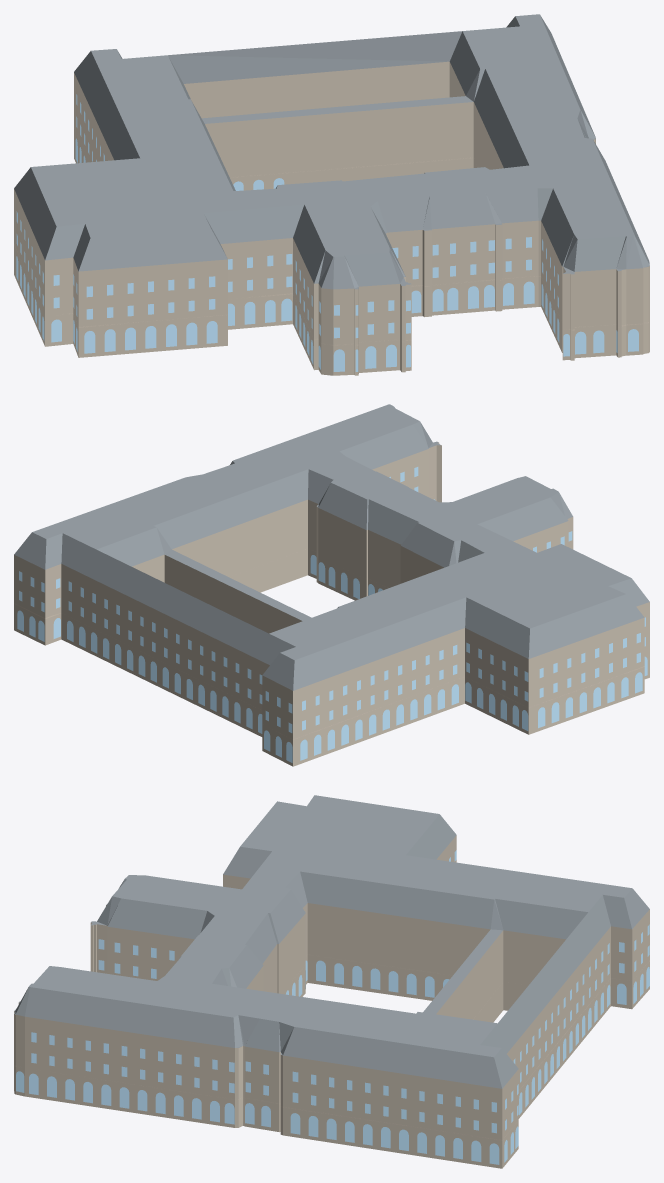
The picture shows the model from 3 angles, top to bottom: view 1: azimuth 30°, elevation 25°; view 2: azimuth 150°, elevation 25°; view 3: azimuth 270°, elevation 25°; orthographic projection. The views are drawn at different scales.
Visible parts, largest first — view 1: roof, stone, window, trim; view 2: roof, stone, window; view 3: roof, stone, window.
Part boxes in pixels (bbox=[...]): roof: bbox=[14, 14, 649, 289]; stone: bbox=[14, 61, 649, 375]; window: bbox=[16, 94, 638, 371]; trim: bbox=[14, 128, 648, 345]; roof: bbox=[14, 404, 649, 690]; stone: bbox=[14, 442, 649, 766]; window: bbox=[17, 467, 647, 762]; roof: bbox=[14, 795, 649, 1088]; stone: bbox=[14, 835, 649, 1168]; window: bbox=[16, 850, 649, 1164].
Bounding box in the file's own units: 171 × 30 × 166.
